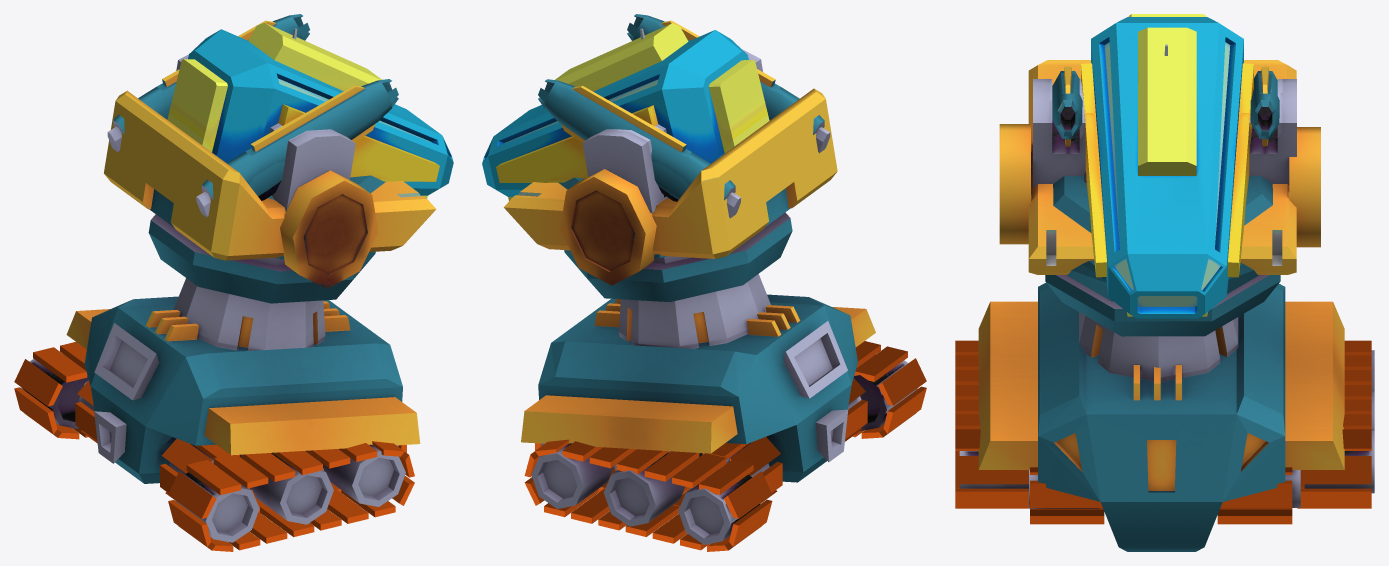
File: Player_move_2_Upgrade4.obj
The picture shows the model from 3 angles, left to right: view 1: azimuth 30°, elevation 25°; view 2: azimuth 150°, elevation 25°; view 3: azimuth 270°, elevation 25°; orthographic projection. The views are drawn at different scales.
Parts seen in each view (by area): view 1: Object015, Box020, Box018, Object014, Box019, Box017, Box016; view 2: Object015, Box019, Box018, Object014, Box020, Box016, Box017; view 3: Object015, Box019, Box020, Object014, Box016, Box017, Box018, Box009.
Boxes of the visible parts, x1,y1,x2,y2 form: Object015: [66, 22, 453, 483]; Box020: [168, 441, 414, 551]; Box018: [21, 354, 405, 542]; Object014: [107, 14, 398, 217]; Box019: [14, 342, 87, 439]; Box017: [160, 438, 406, 512]; Box016: [75, 380, 97, 443]; Object015: [482, 23, 875, 482]; Box019: [524, 439, 772, 551]; Box018: [531, 355, 917, 544]; Object014: [538, 14, 830, 218]; Box020: [852, 341, 926, 438]; Box016: [535, 437, 782, 506]; Box017: [845, 378, 867, 441]; Object015: [978, 14, 1344, 551]; Box019: [1297, 340, 1371, 508]; Box020: [955, 340, 1028, 508]; Object014: [1052, 66, 1279, 146]; Box016: [1217, 467, 1292, 524]; Box017: [1030, 467, 1104, 524]; Box018: [959, 350, 1374, 493]; Box009: [1029, 470, 1300, 508].
Bounding box in the file's own units: 70.38 × 88.9 × 68.55.
6 materials, 4 textured.
